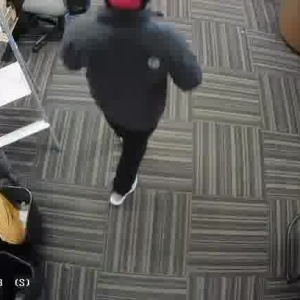person: (65, 0, 187, 192)
